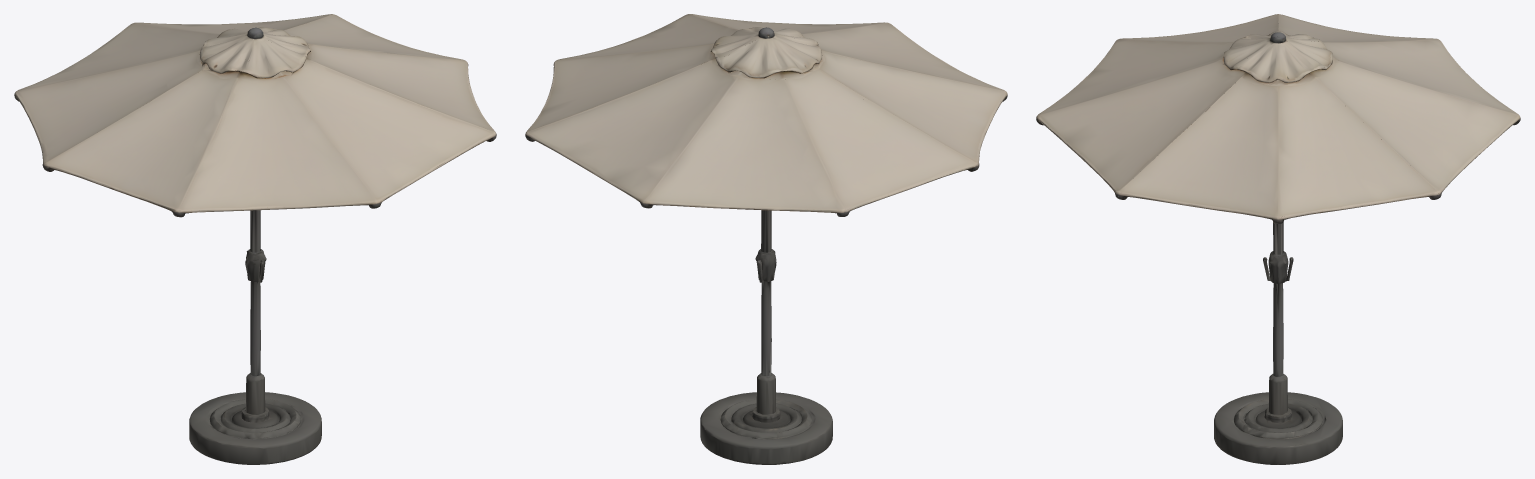
Rendered from Umbrella.glb.
3 renders of one model, left to right at view 1: azimuth 30°, elevation 25°; view 2: azimuth 150°, elevation 25°; view 3: azimuth 270°, elevation 25°, orthographic.
Visible parts, largest first — view 1: node_0; view 2: node_0; view 3: node_0.
Part boxes in pixels (x1,y1,x2,y2): node_0: (14, 14, 496, 464); node_0: (525, 14, 1007, 464); node_0: (1036, 14, 1520, 464).
Size of the model in its own units: 1.05 by 0.9708 by 1.05.
Materials: 1 (1 with a texture image).
